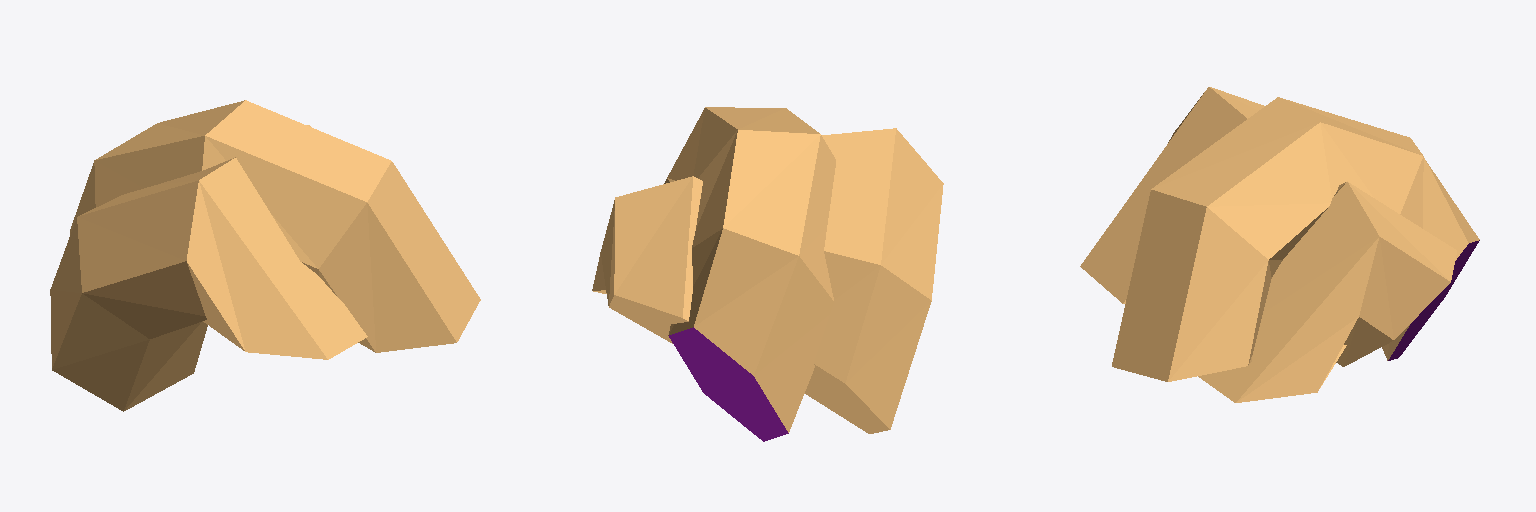
The picture shows the model from 3 angles: view 1: azimuth 30°, elevation 25°; view 2: azimuth 150°, elevation 25°; view 3: azimuth 270°, elevation 25°; orthographic projection.
Parts seen in each view (by area): view 1: group[number redacted], group[number redacted]; view 2: group[number redacted], group[number redacted], group[number redacted]; view 3: group[number redacted], group[number redacted], group[number redacted].
Part boxes in pixels (bbox=[...]): group[number redacted]: bbox=[50, 157, 367, 411]; group[number redacted]: bbox=[70, 100, 480, 352]; group[number redacted]: bbox=[664, 107, 835, 441]; group[number redacted]: bbox=[805, 128, 943, 433]; group[number redacted]: bbox=[592, 176, 702, 343]; group[number redacted]: bbox=[1112, 97, 1479, 381]; group[number redacted]: bbox=[1198, 181, 1456, 402]; group[number redacted]: bbox=[1080, 87, 1264, 303].
Size of the model in its own units: 0.1408 by 0.1105 by 0.1444.